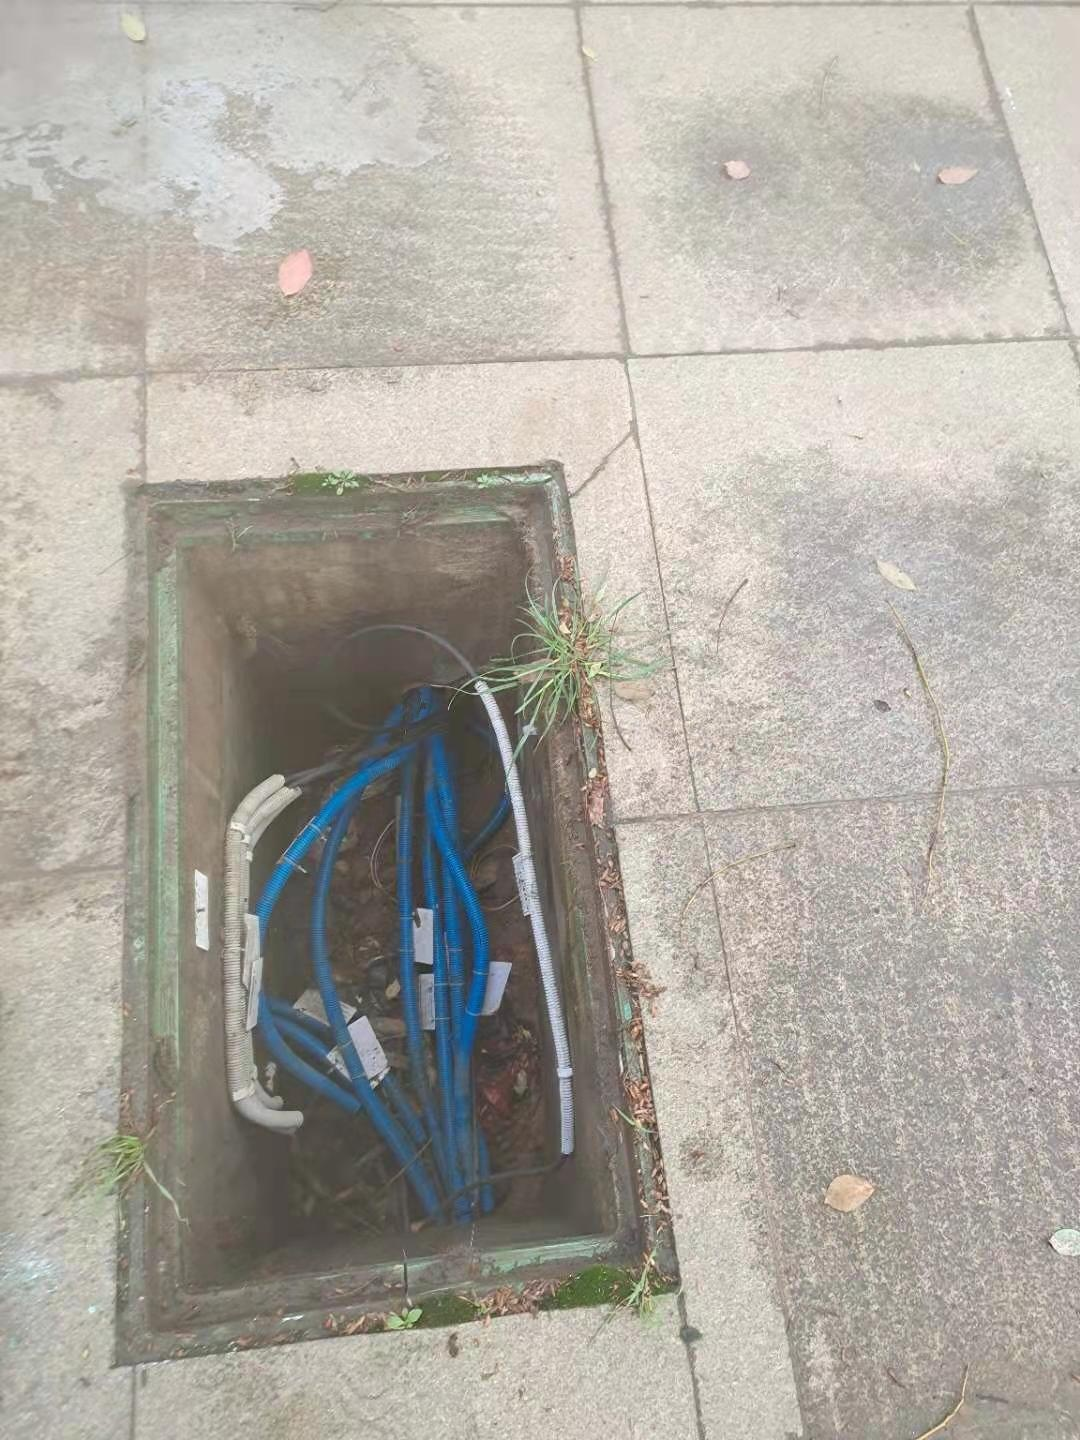lose: (108, 463, 665, 1323)
